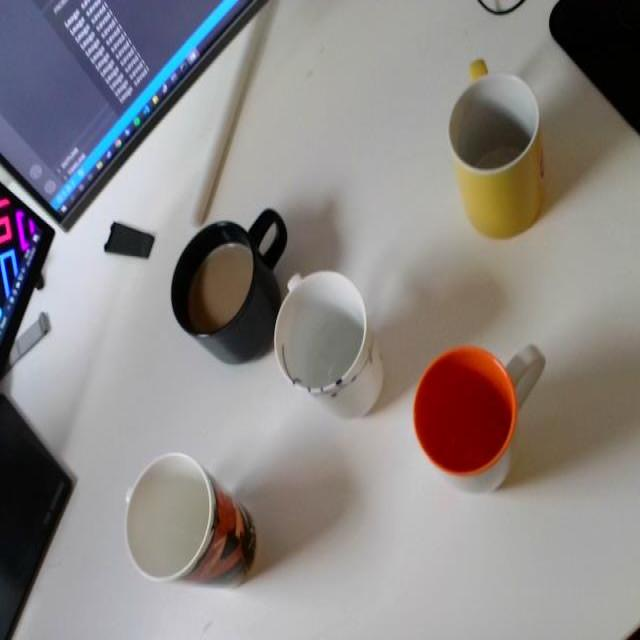cup: (395, 340, 561, 507), (106, 437, 266, 600), (439, 48, 560, 248), (160, 185, 284, 378), (255, 272, 406, 428)
